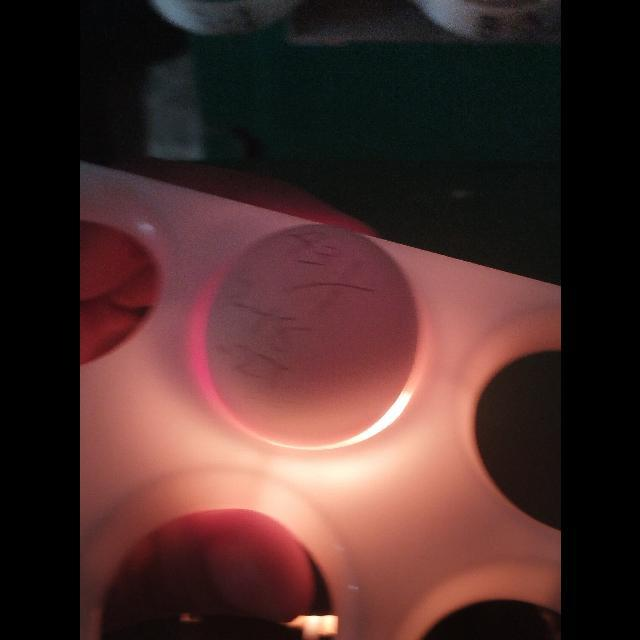Fertile: (201, 221, 427, 451)
